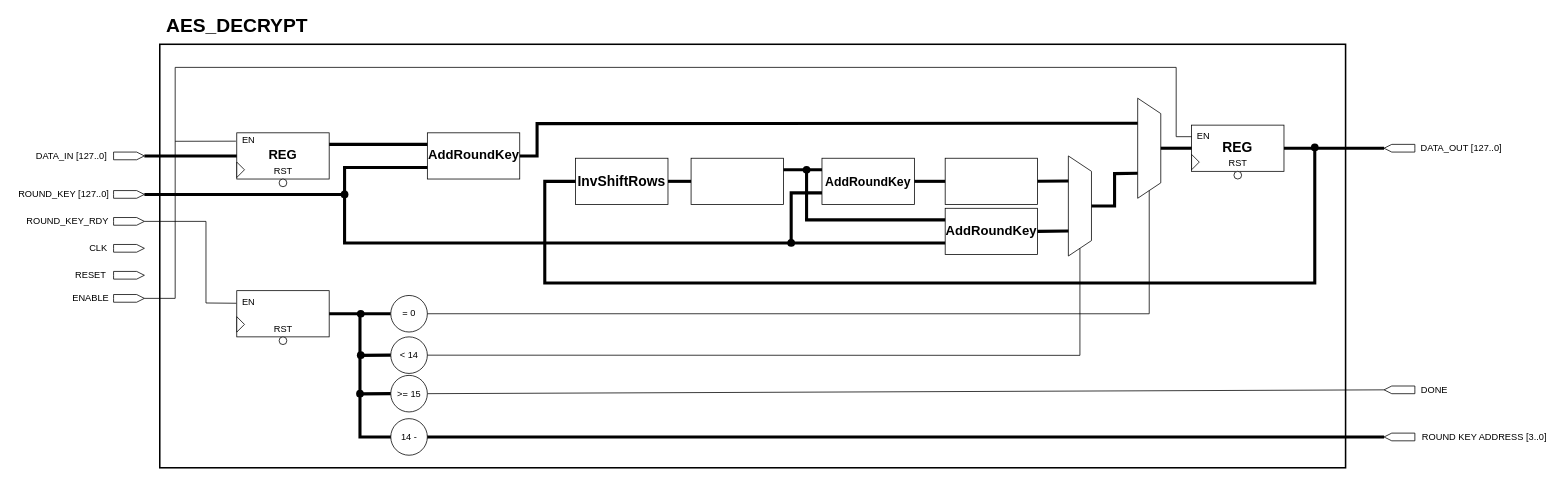
Image size: 1566x481. Some labels were removed from this diagram. Each missing label, with the box of its shape:
COUNTER: (236, 290, 329, 337)
InvMixColumns: (944, 157, 1038, 204)
InvSubBytes: (690, 157, 783, 204)
